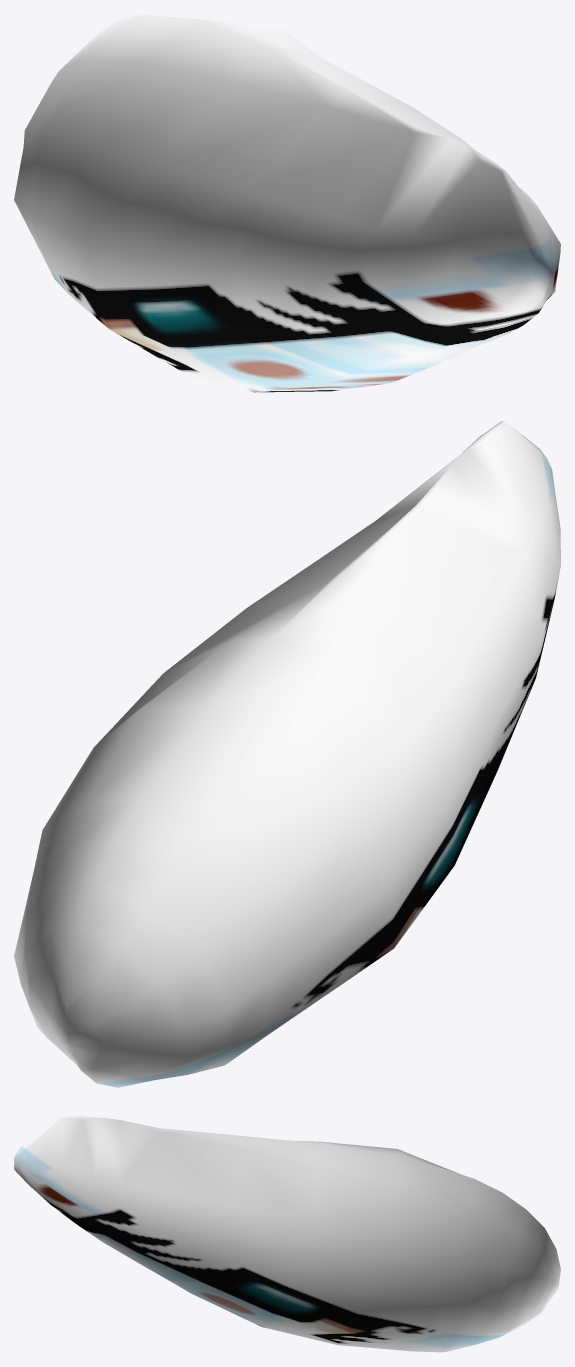
File: static.ico.obj
The picture shows the model from 3 angles, top to bottom: view 1: azimuth 30°, elevation 25°; view 2: azimuth 150°, elevation 25°; view 3: azimuth 270°, elevation 25°; orthographic projection. The views are drawn at different scales.
Bounding box in the file's own units: 1.21 × 1.52 × 3.26.
